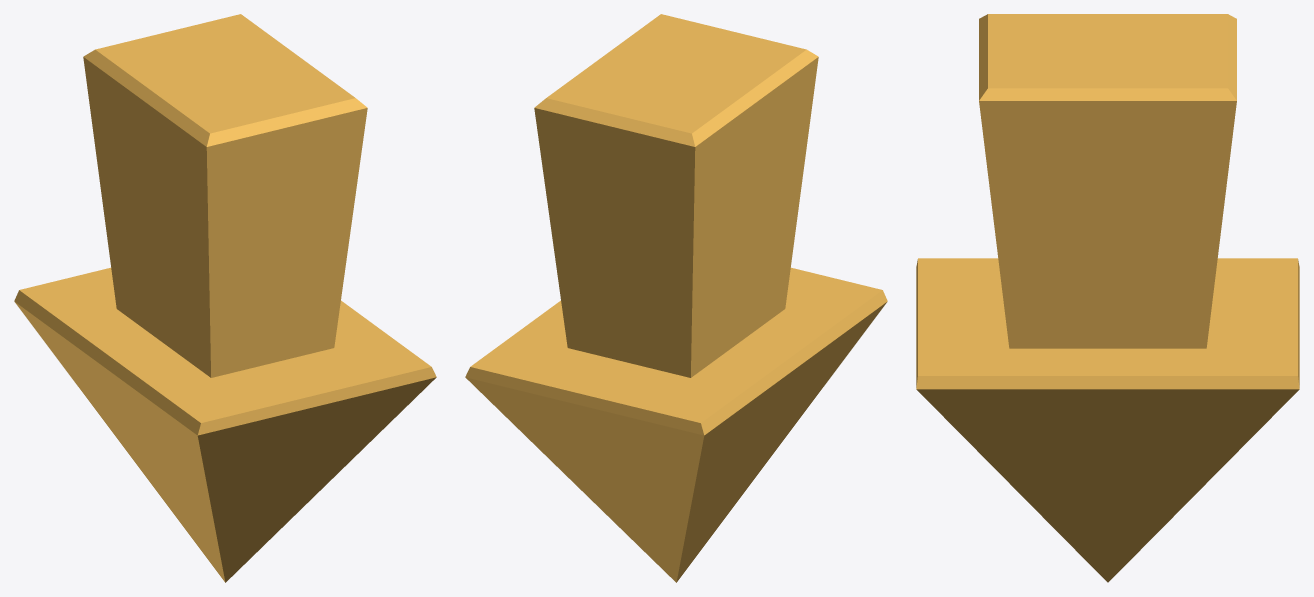
The model's file is arrow_direction.fbx.
The picture shows the model from 3 angles, left to right: view 1: azimuth 30°, elevation 25°; view 2: azimuth 150°, elevation 25°; view 3: azimuth 270°, elevation 25°; orthographic projection. The views are drawn at different scales.
Parts seen in each view (by area): view 1: arrow_direction; view 2: arrow_direction; view 3: arrow_direction.
Boxes of the visible parts, left/top/right/bottom form: arrow_direction: left=14, top=14, right=436, bottom=582; arrow_direction: left=465, top=14, right=887, bottom=582; arrow_direction: left=916, top=14, right=1299, bottom=582.
Bounding box in the file's own units: 0.2417 × 0.4917 × 0.3212.
